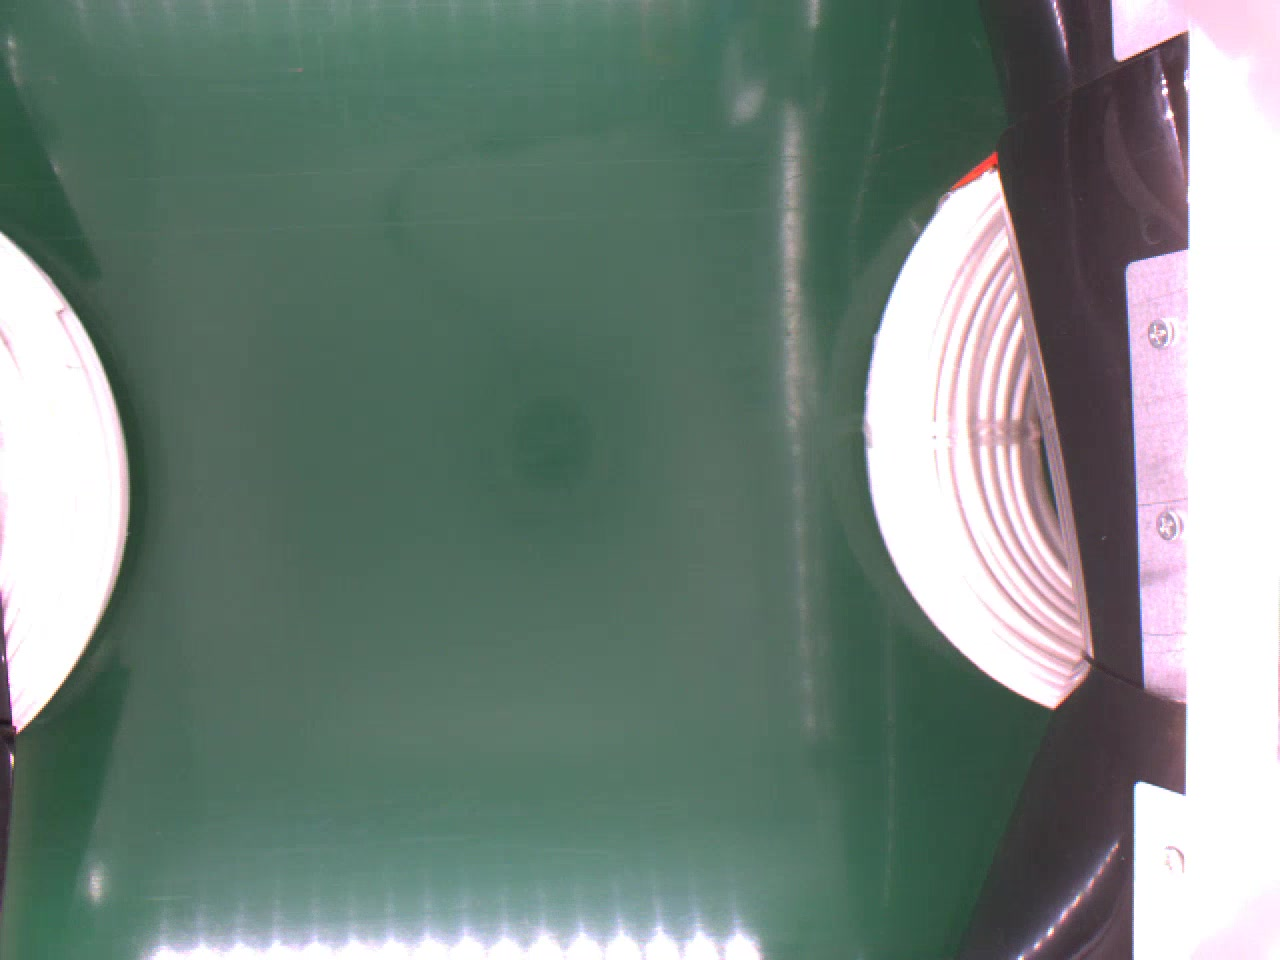white: (860, 140, 1072, 715), (0, 224, 139, 739)
